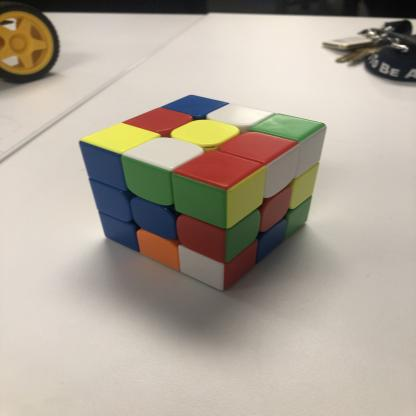UnsolvedCube: (82, 91, 335, 287)
